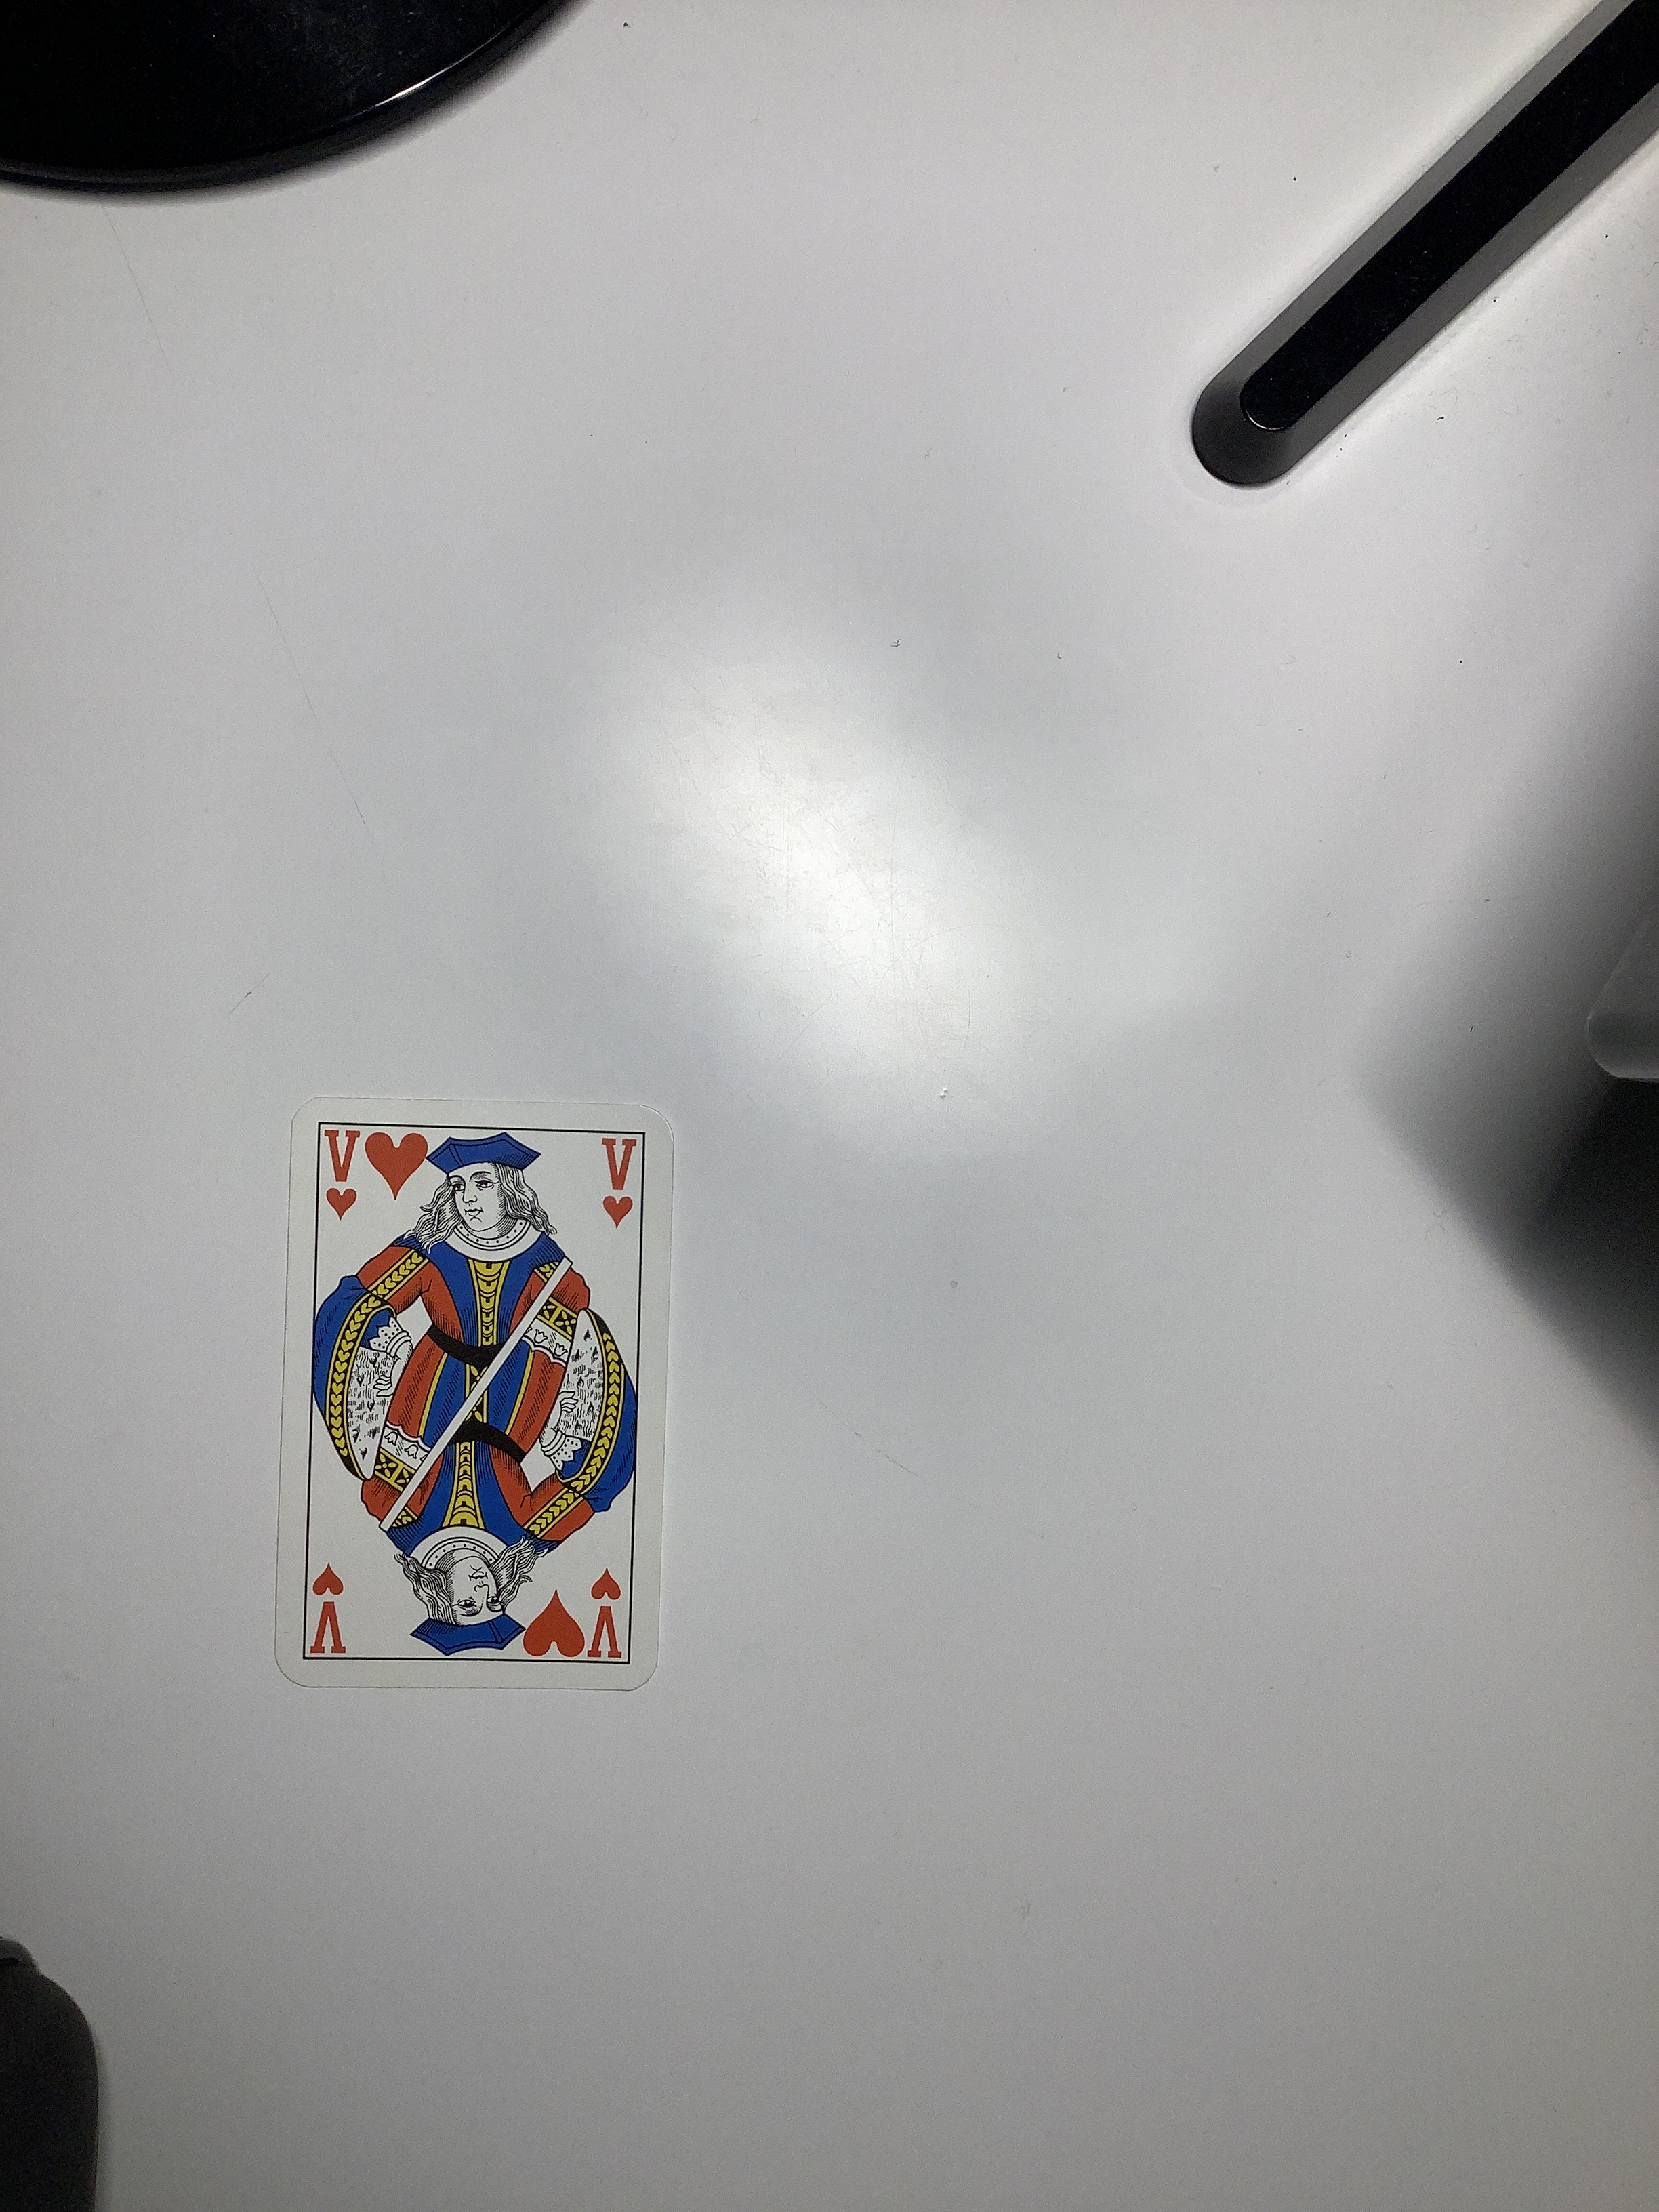♥ J: (268, 1075, 695, 1709)
